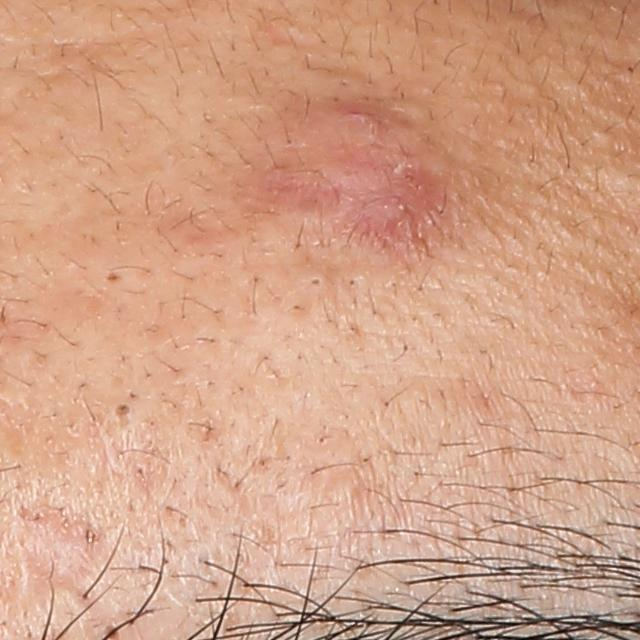atrophic_scar: (8, 490, 112, 623)
comedo: (320, 471, 363, 506), (104, 394, 144, 425), (104, 271, 125, 284)
